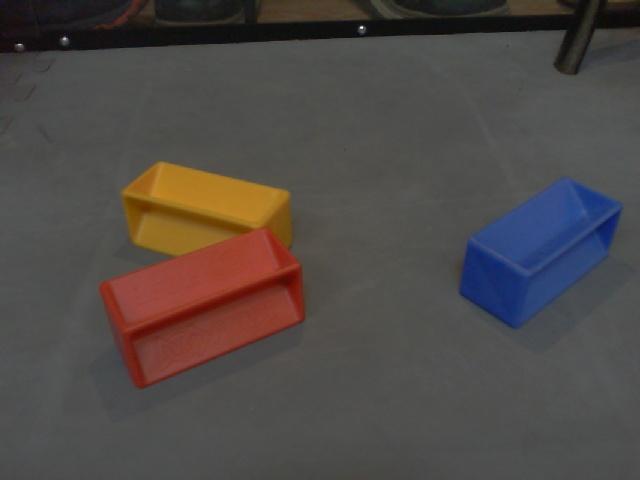BlueSample: (459, 178, 625, 329)
RedSample: (97, 225, 307, 392)
YellowSample: (117, 160, 296, 268)
